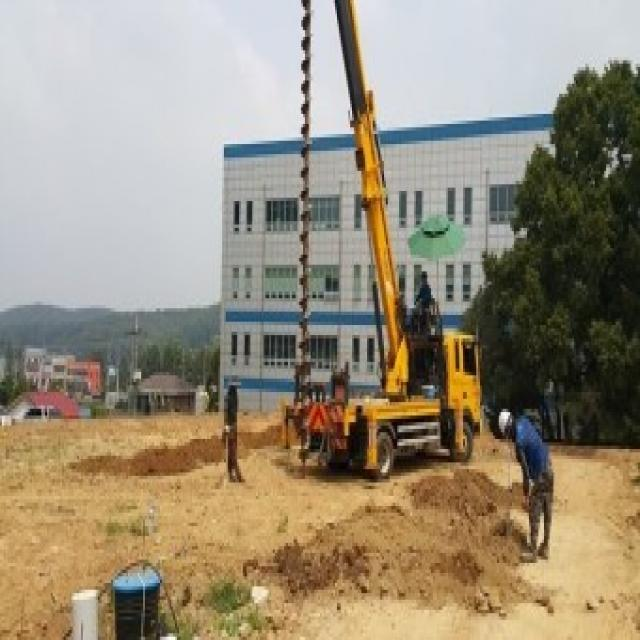pile: (297, 0, 314, 475)
plant: (459, 57, 640, 449)
